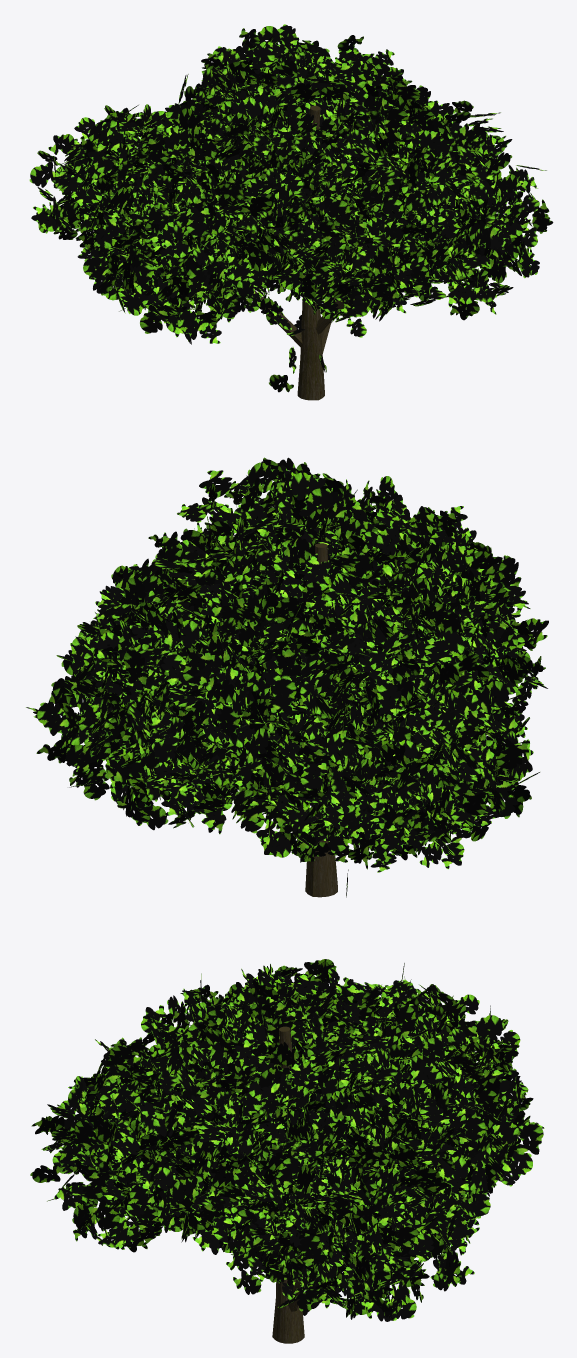
Rendered from understory_laurel_v02.fbx.
3 views of the same model, one above another, from view 1: azimuth 30°, elevation 25°; view 2: azimuth 150°, elevation 25°; view 3: azimuth 270°, elevation 25° (orthographic). The views are drawn at different scales.
Visible parts, largest first — view 1: understory_laurel_v02; view 2: understory_laurel_v02; view 3: understory_laurel_v02.
Part boxes in pixels (box(x1,y1,x2,y2)): understory_laurel_v02: box(29, 24, 553, 400); understory_laurel_v02: box(26, 457, 548, 897); understory_laurel_v02: box(30, 959, 544, 1343).
Size of the model in its own units: 1035 by 1046 by 752.
Materials: 2 (2 with a texture image).
